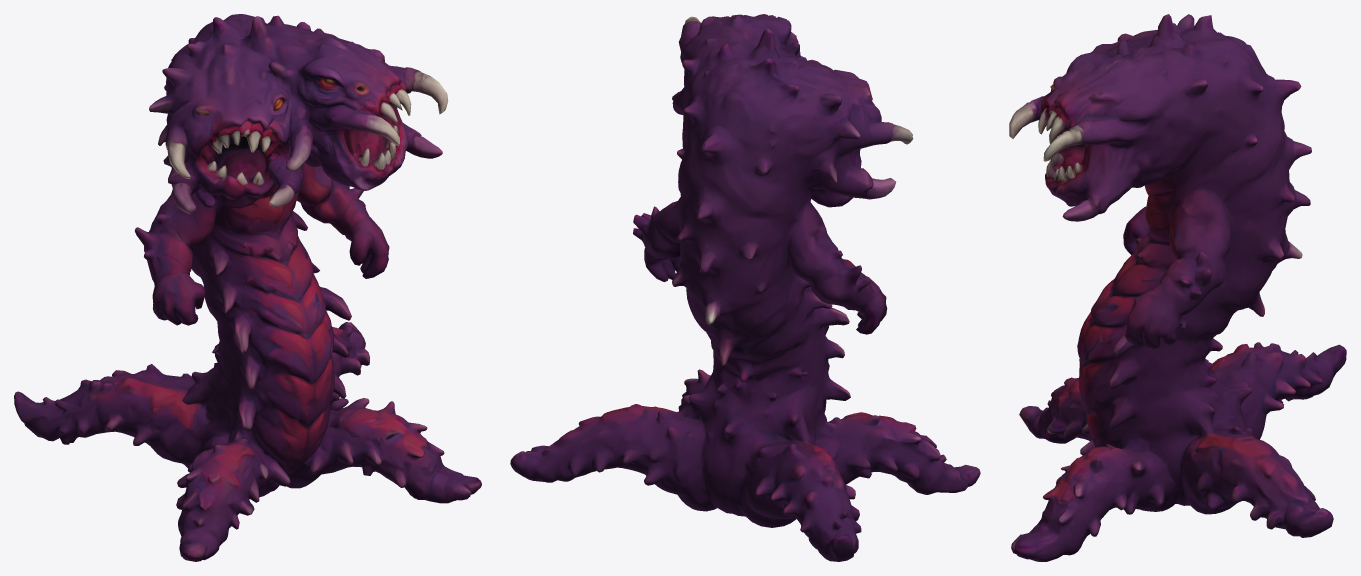
Rendered from Enemigo 16.glb.
The picture shows the model from 3 angles, left to right: view 1: azimuth 30°, elevation 25°; view 2: azimuth 150°, elevation 25°; view 3: azimuth 270°, elevation 25°; orthographic projection. The views are drawn at different scales.
Visible parts, largest first — view 1: tripo_node_b021dca8-ff13-4d62-b89f-3b6ade9288ca; view 2: tripo_node_b021dca8-ff13-4d62-b89f-3b6ade9288ca; view 3: tripo_node_b021dca8-ff13-4d62-b89f-3b6ade9288ca.
Boxes of the visible parts, bbox=[...] form: tripo_node_b021dca8-ff13-4d62-b89f-3b6ade9288ca: bbox=[14, 14, 481, 561]; tripo_node_b021dca8-ff13-4d62-b89f-3b6ade9288ca: bbox=[510, 14, 980, 561]; tripo_node_b021dca8-ff13-4d62-b89f-3b6ade9288ca: bbox=[1009, 14, 1346, 561].
Size of the model in its own units: 0.7352 by 0.9803 by 0.623.
1 material, 1 textured.
